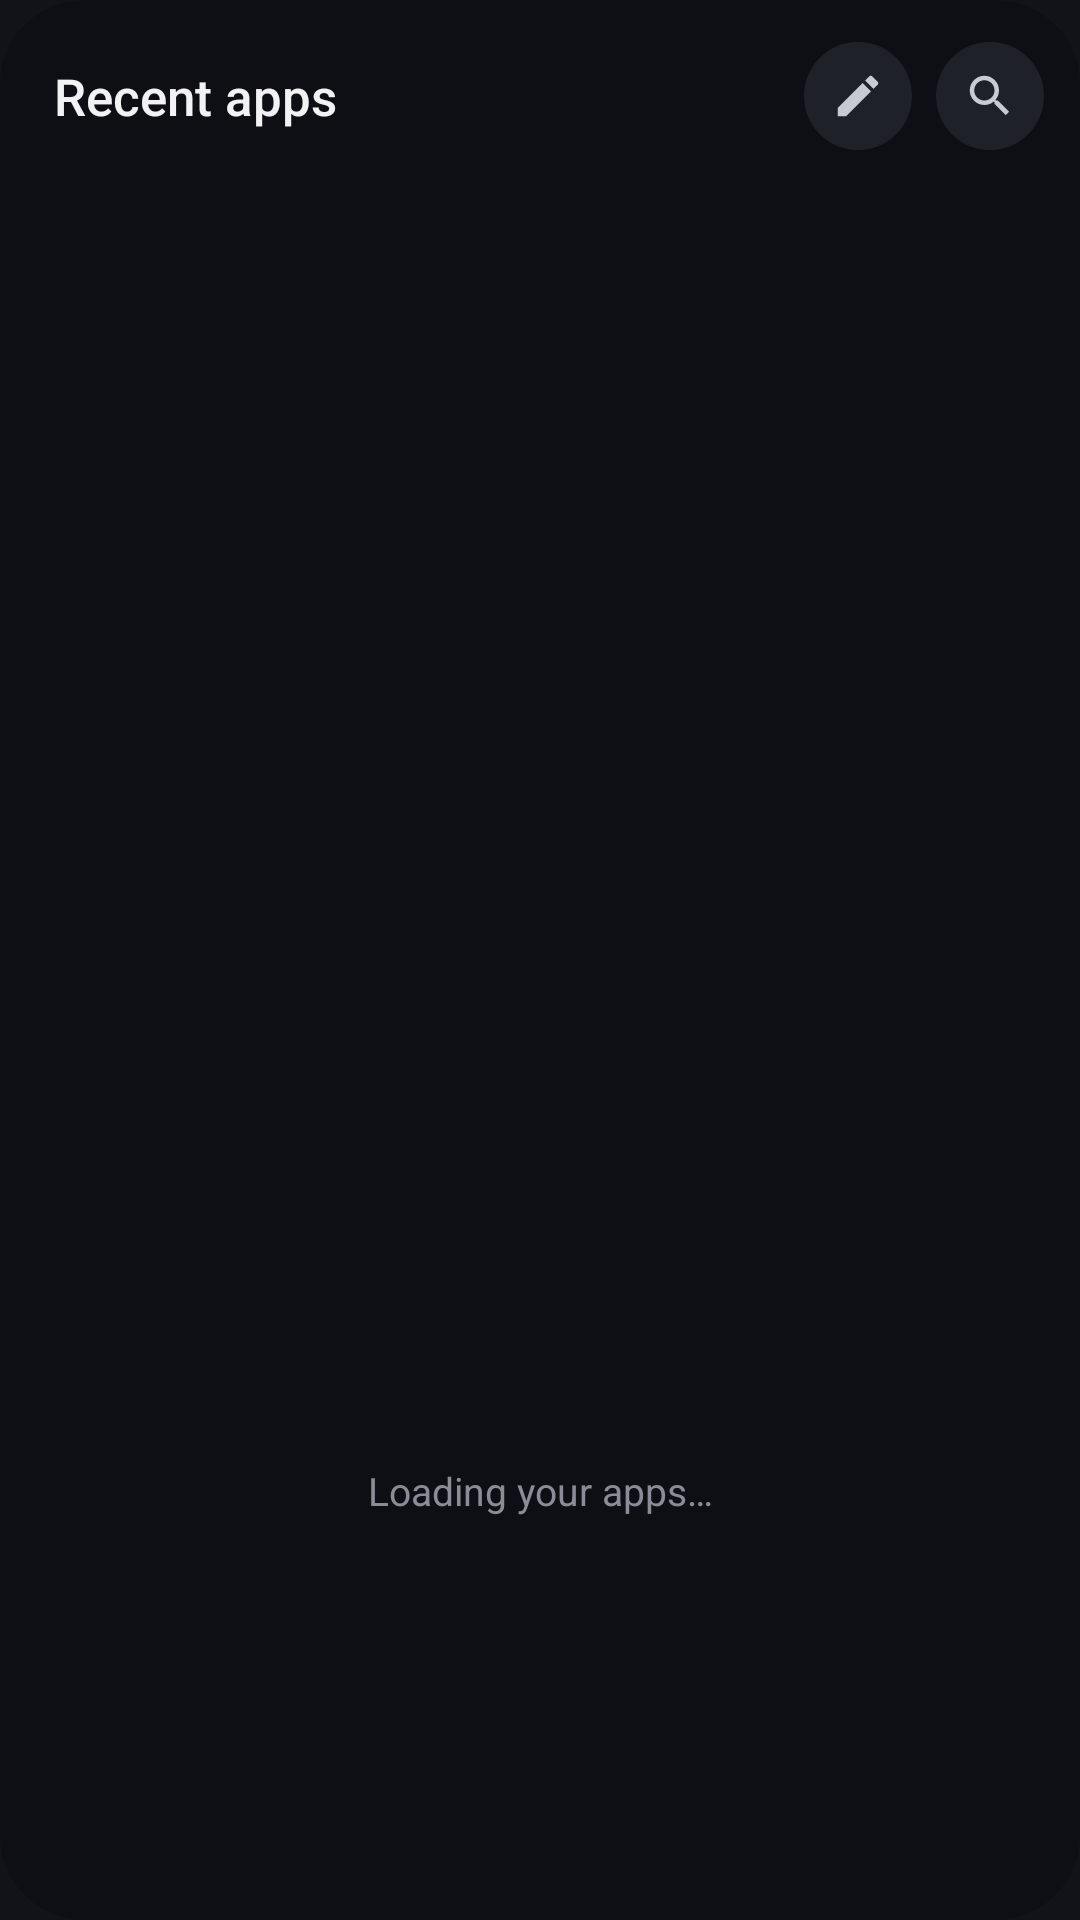

Point at icon controls on the screen. Image size 1080×1920, points as [x,y].
Edit pinned apps: [858,96]
Search apps: [990,96]
